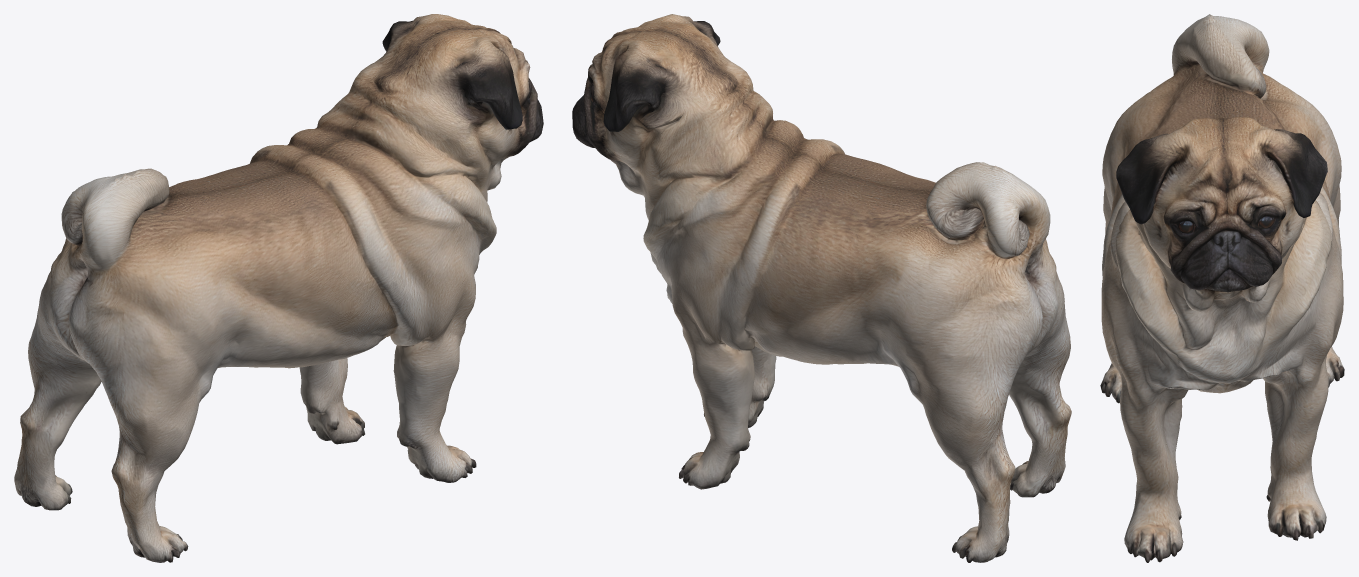
Rendered from pug.glb.
3 views of the same model, side by side, from view 1: azimuth 30°, elevation 25°; view 2: azimuth 150°, elevation 25°; view 3: azimuth 270°, elevation 25° (orthographic). The views are drawn at different scales.
Parts seen in each view (by area): view 1: tripo_node_c06b13f8-eea4-4e26-9a21-86c816ff438a; view 2: tripo_node_c06b13f8-eea4-4e26-9a21-86c816ff438a; view 3: tripo_node_c06b13f8-eea4-4e26-9a21-86c816ff438a.
Boxes of the visible parts, x1,y1,x2,y2 form: tripo_node_c06b13f8-eea4-4e26-9a21-86c816ff438a: [14, 14, 543, 562]; tripo_node_c06b13f8-eea4-4e26-9a21-86c816ff438a: [572, 14, 1071, 562]; tripo_node_c06b13f8-eea4-4e26-9a21-86c816ff438a: [1100, 14, 1344, 562].
Size of the model in its own units: 1 by 0.8258 by 0.4111.
1 material, 1 textured.
